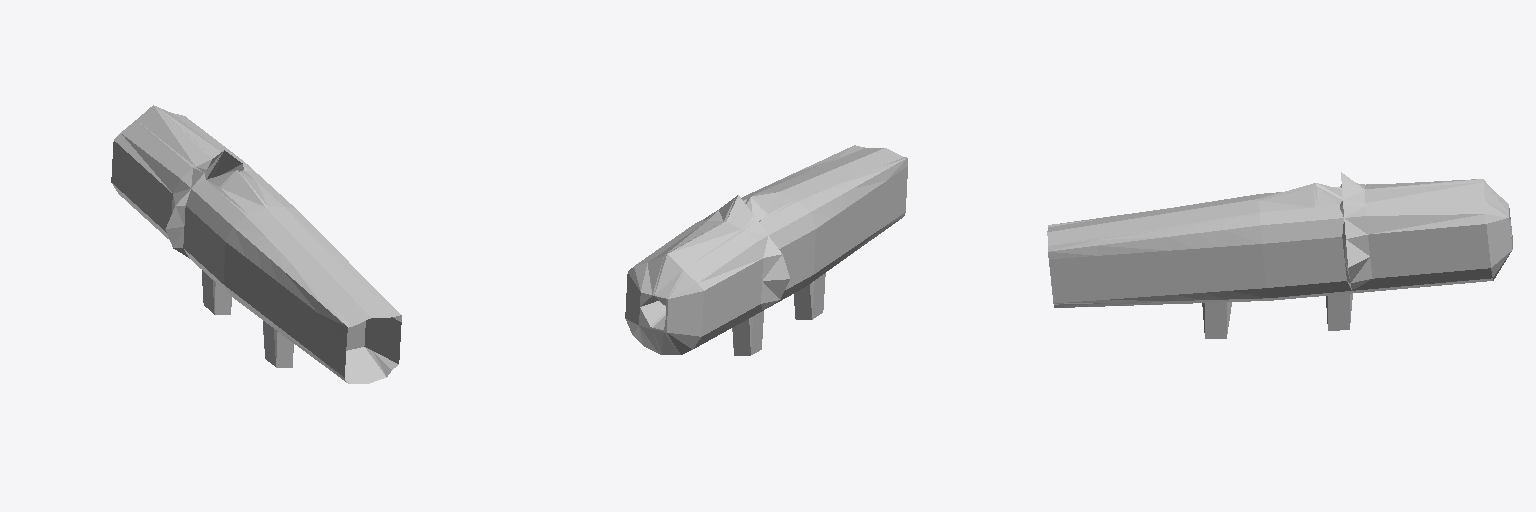
The model's file is rocketl.obj.
The picture shows the model from 3 angles: view 1: azimuth 30°, elevation 25°; view 2: azimuth 150°, elevation 25°; view 3: azimuth 270°, elevation 25°; orthographic projection.
Parts seen in each view (by area): view 1: Cube; view 2: Cube; view 3: Cube.
Part boxes in pixels (left/top/right/bottom): Cube: left=111, top=105, right=401, bottom=383; Cube: left=625, top=145, right=907, bottom=355; Cube: left=1047, top=172, right=1512, bottom=338.
Size of the model in its own units: 0.841 by 1.19 by 2.99.